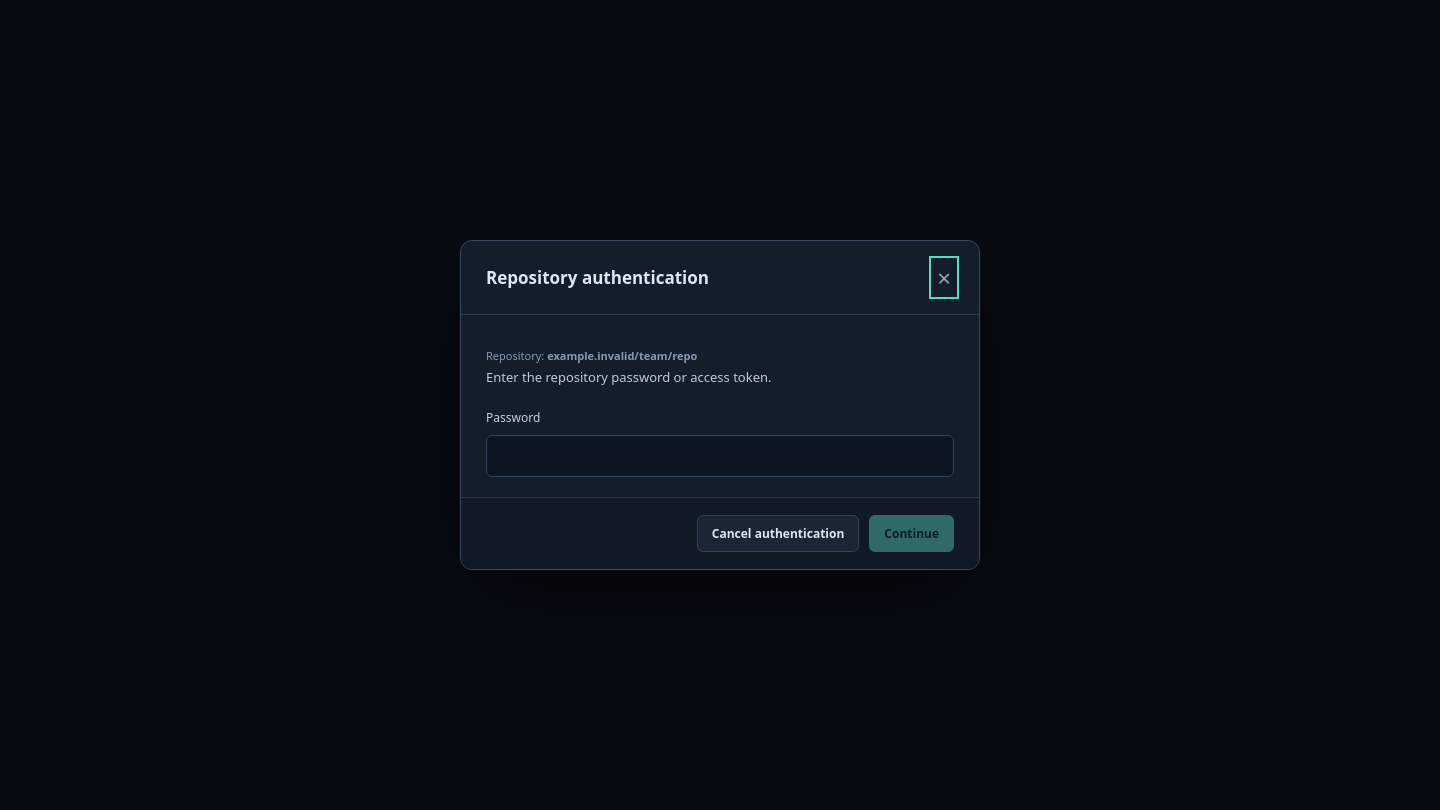
transient authentication › shows denied authentication and clears the submitted value
Type "CANARY_SECRET" into the password field labelled "Password". click: (720, 456)
box: [486,435,954,477]
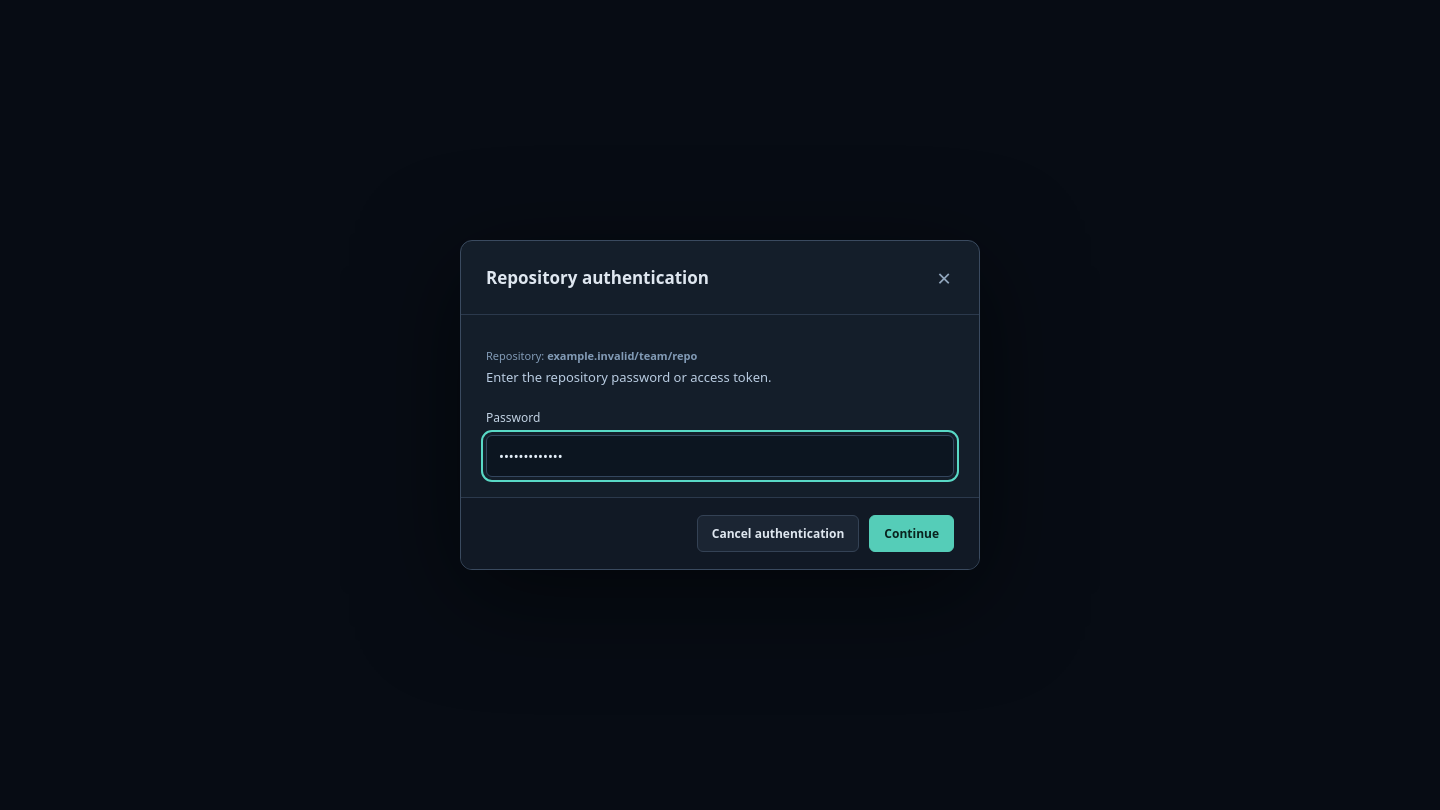
Click the button "Continue". click: (912, 534)
box: [869,515,954,552]
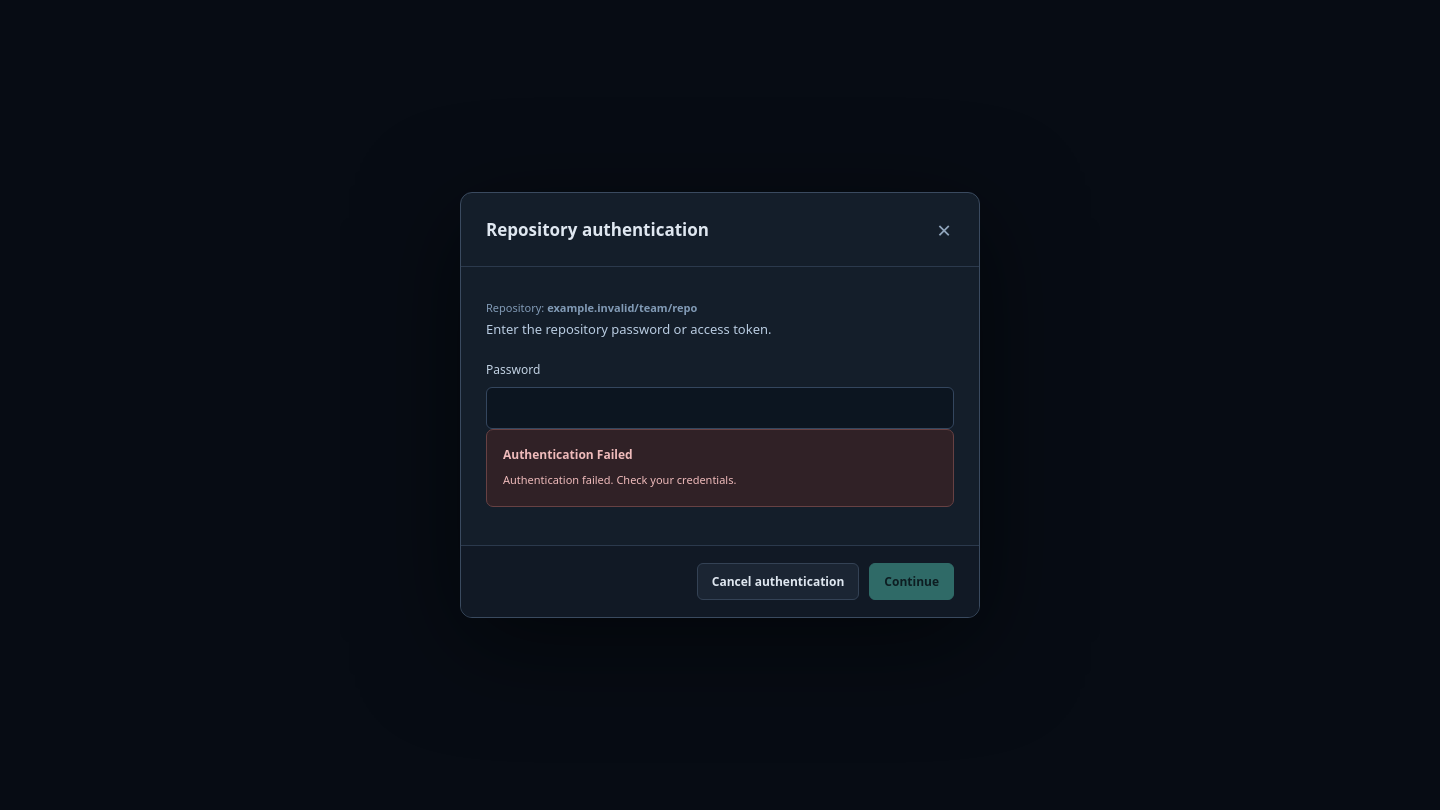
Expected: the message shows "Authentication failed.", [503,472,736,487]
Expected: the password field labelled "Password" is empty, [486,387,954,429]
